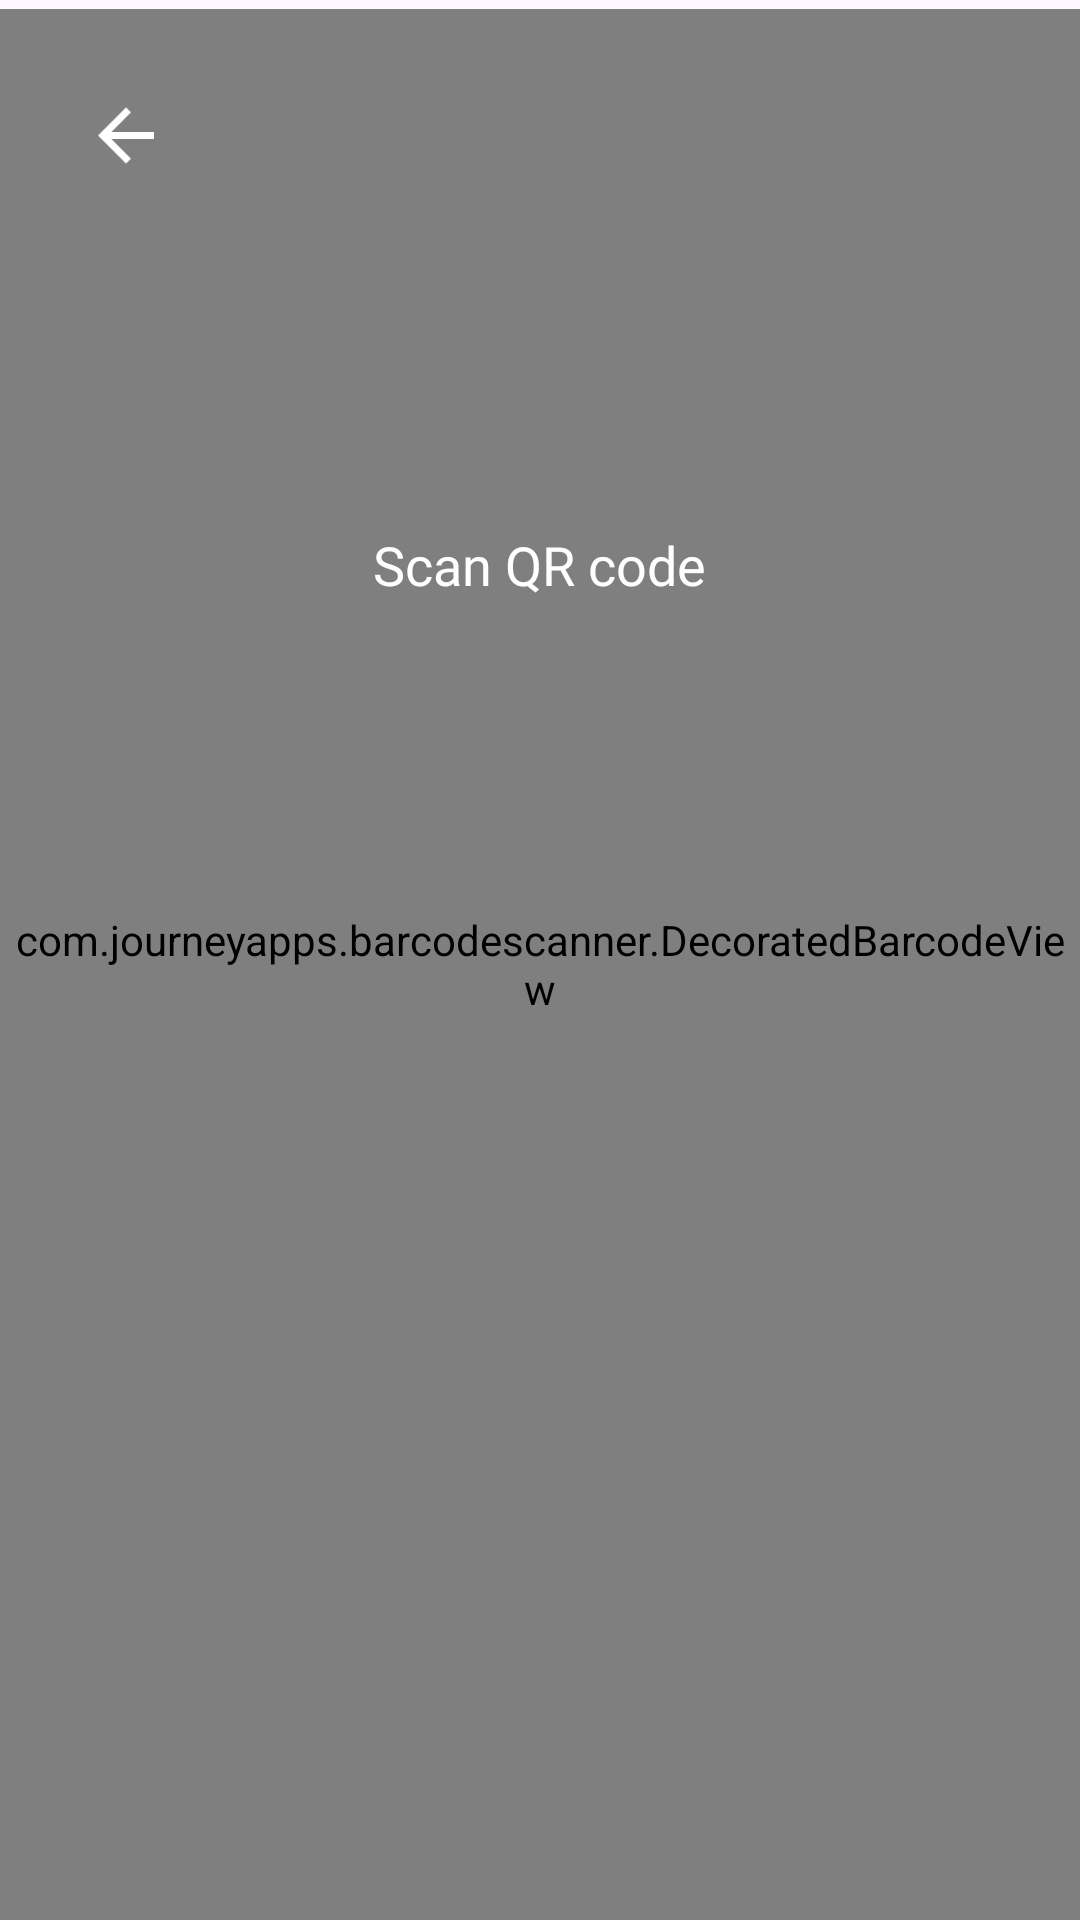

Named icons in this screenshot (1080*1920) and their centers, [x,y]:
arrow back: [126,135]
